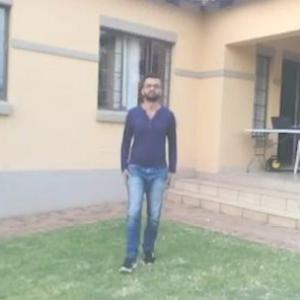follow: (122, 67, 178, 237)
